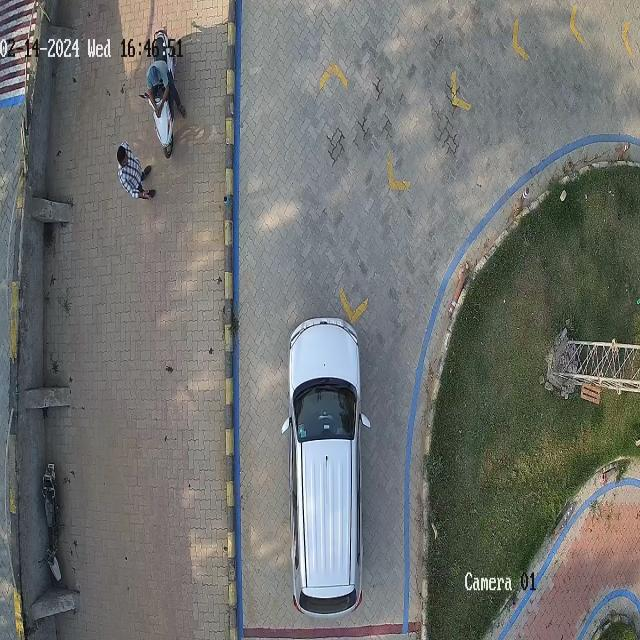car: (288, 316, 363, 618)
